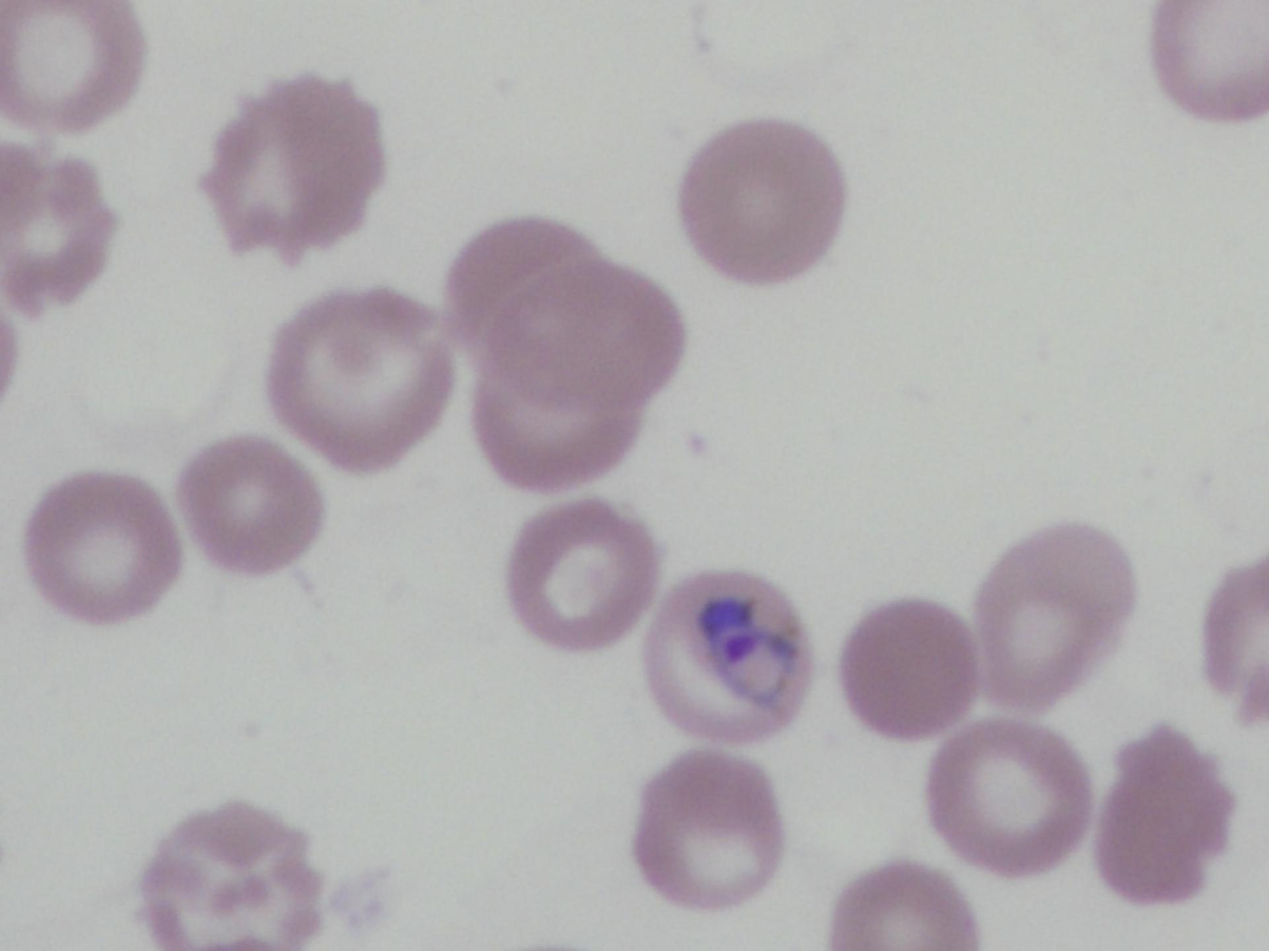Infected: (639, 571, 811, 741)
Uninfected: (260, 298, 458, 478), (205, 82, 389, 255), (978, 518, 1131, 711), (445, 210, 626, 370), (491, 265, 684, 401), (687, 124, 853, 281), (137, 807, 317, 951), (507, 494, 664, 653), (930, 714, 1084, 875), (630, 745, 781, 908), (474, 358, 654, 489), (26, 468, 179, 621), (1102, 723, 1229, 906), (833, 600, 981, 740), (0, 0, 147, 132), (0, 146, 119, 306), (183, 441, 322, 577)
